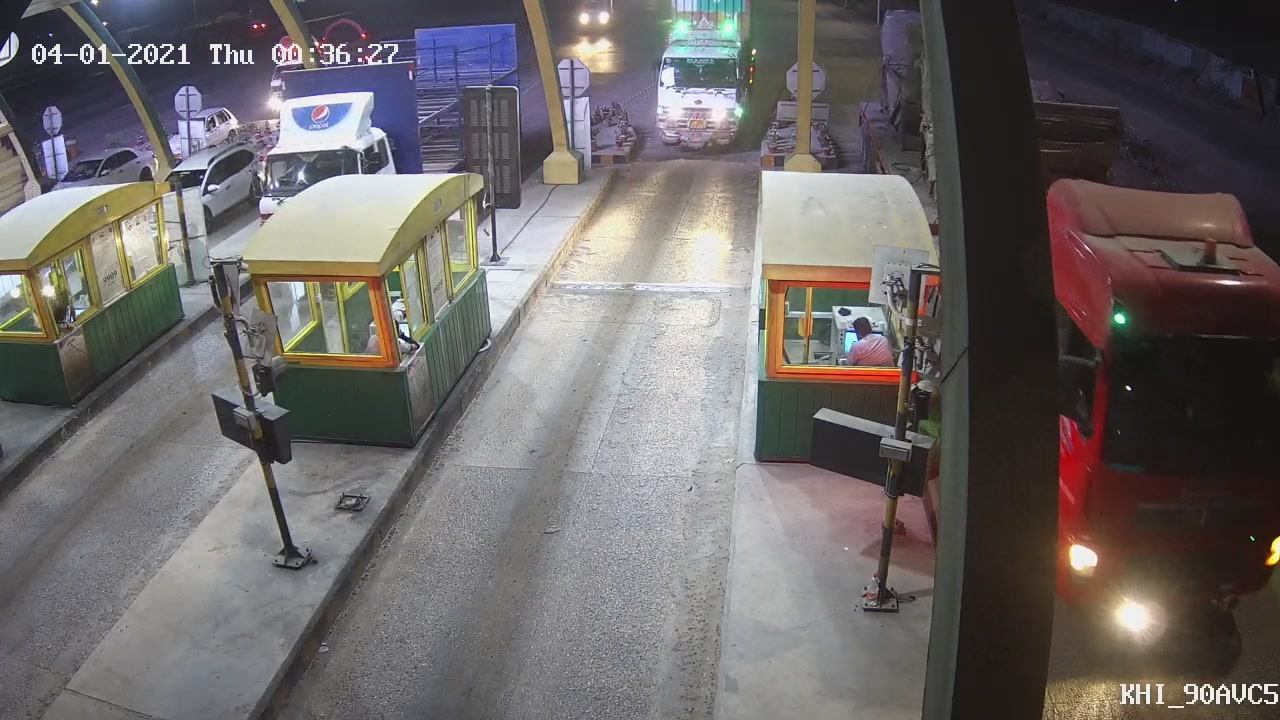F5: (636, 3, 753, 153)
